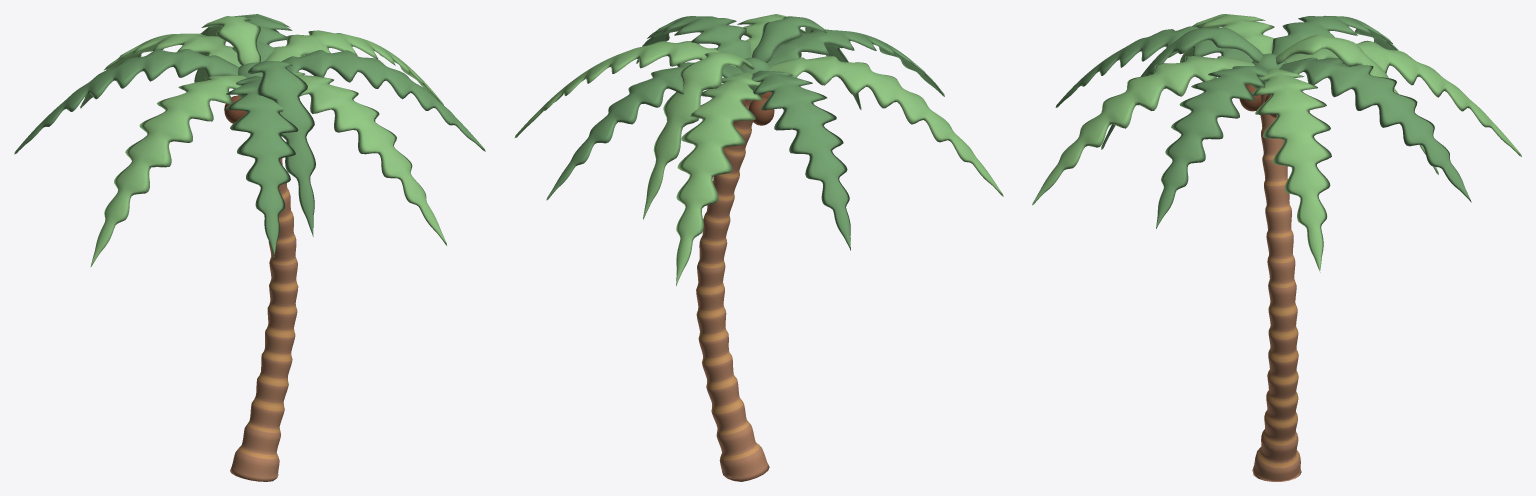
File: palm-tree.glb
3 views of the same model, side by side, from view 1: azimuth 30°, elevation 25°; view 2: azimuth 150°, elevation 25°; view 3: azimuth 270°, elevation 25° (orthographic).
Visible parts, largest first — view 1: palm-tree_body; view 2: palm-tree_body; view 3: palm-tree_body.
Boxes of the visible parts, x1,y1,x2,y2 form: palm-tree_body: [14, 14, 485, 481]; palm-tree_body: [514, 14, 1003, 481]; palm-tree_body: [1032, 14, 1521, 481].
Size of the model in its own units: 5.18 by 5.09 by 5.18.
Materials: 1 (1 with a texture image).
